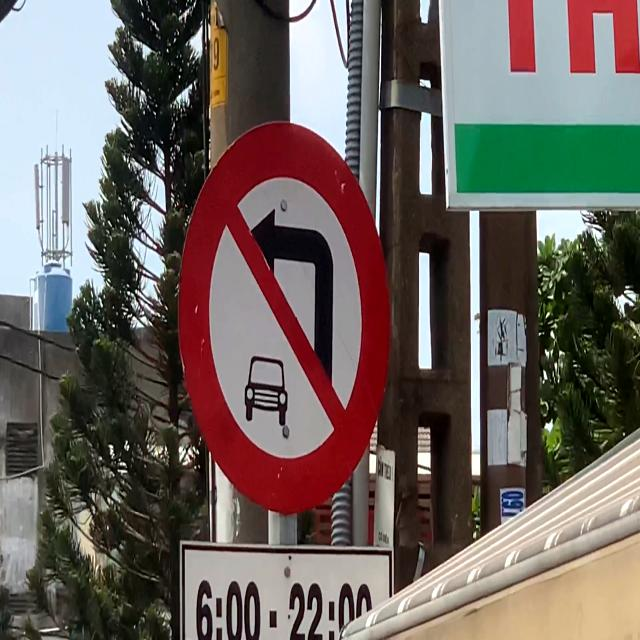P.103c: (180, 120, 386, 512)
